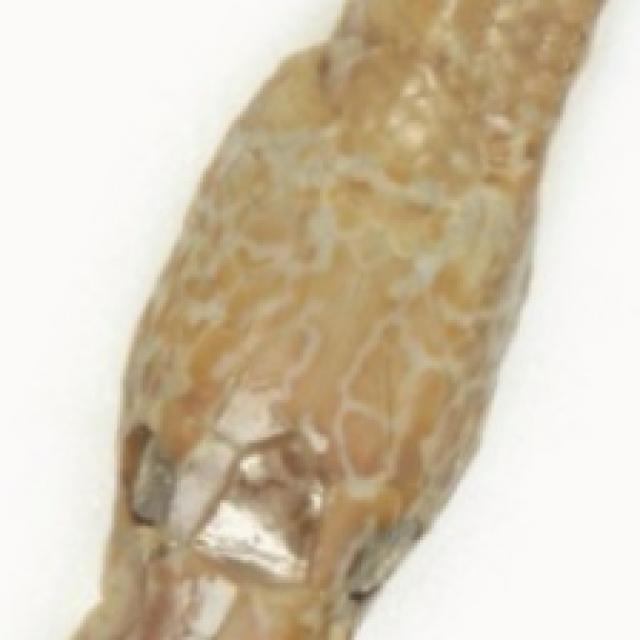mullers wolf snake: (0, 0, 340, 637), (357, 0, 637, 637)
